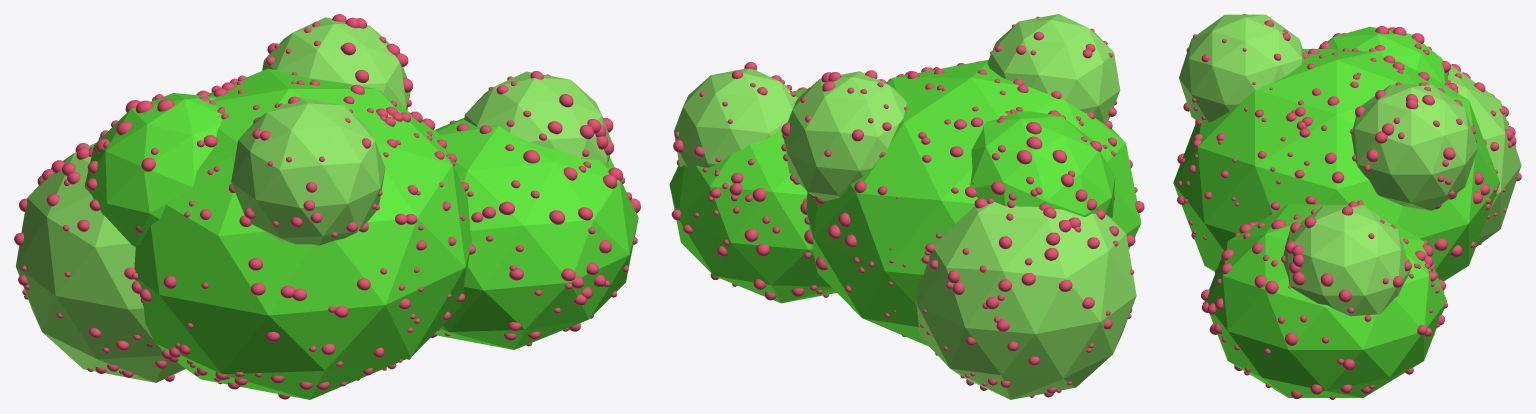
Rendered from Berrybush_2.fbx.
3 views of the same model, side by side, from view 1: azimuth 30°, elevation 25°; view 2: azimuth 150°, elevation 25°; view 3: azimuth 270°, elevation 25° (orthographic). The views are drawn at different scales.
Visible parts, largest first — view 1: Icosphere.001; view 2: Icosphere.001; view 3: Icosphere.001.
Boxes of the visible parts, <box> form: Icosphere.001: <box>16,17,638,399</box>; Icosphere.001: <box>669,14,1141,399</box>; Icosphere.001: <box>1173,14,1521,397</box>.
Size of the model in its own units: 432 by 251 by 287.
